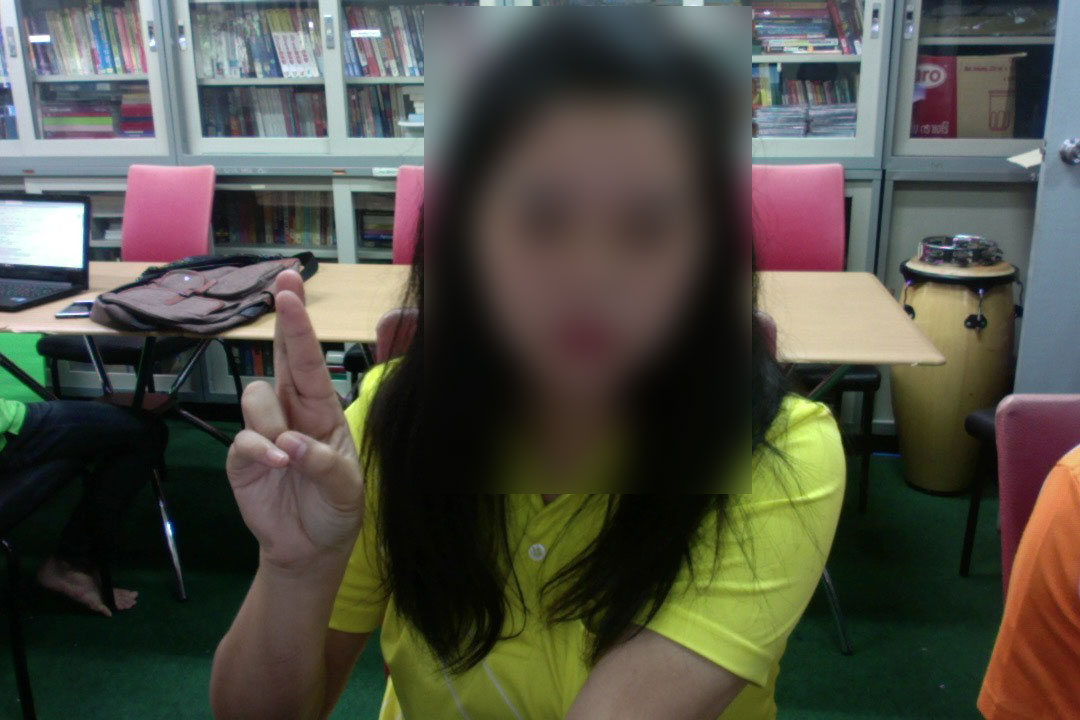rao: (217, 265, 372, 574)
